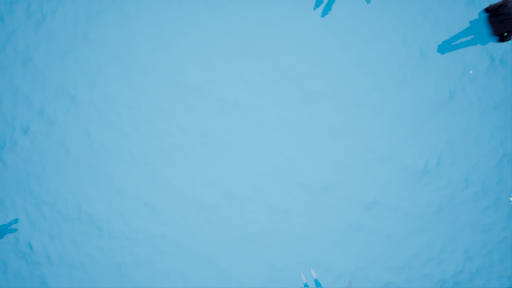person: (442, 1, 512, 54)
